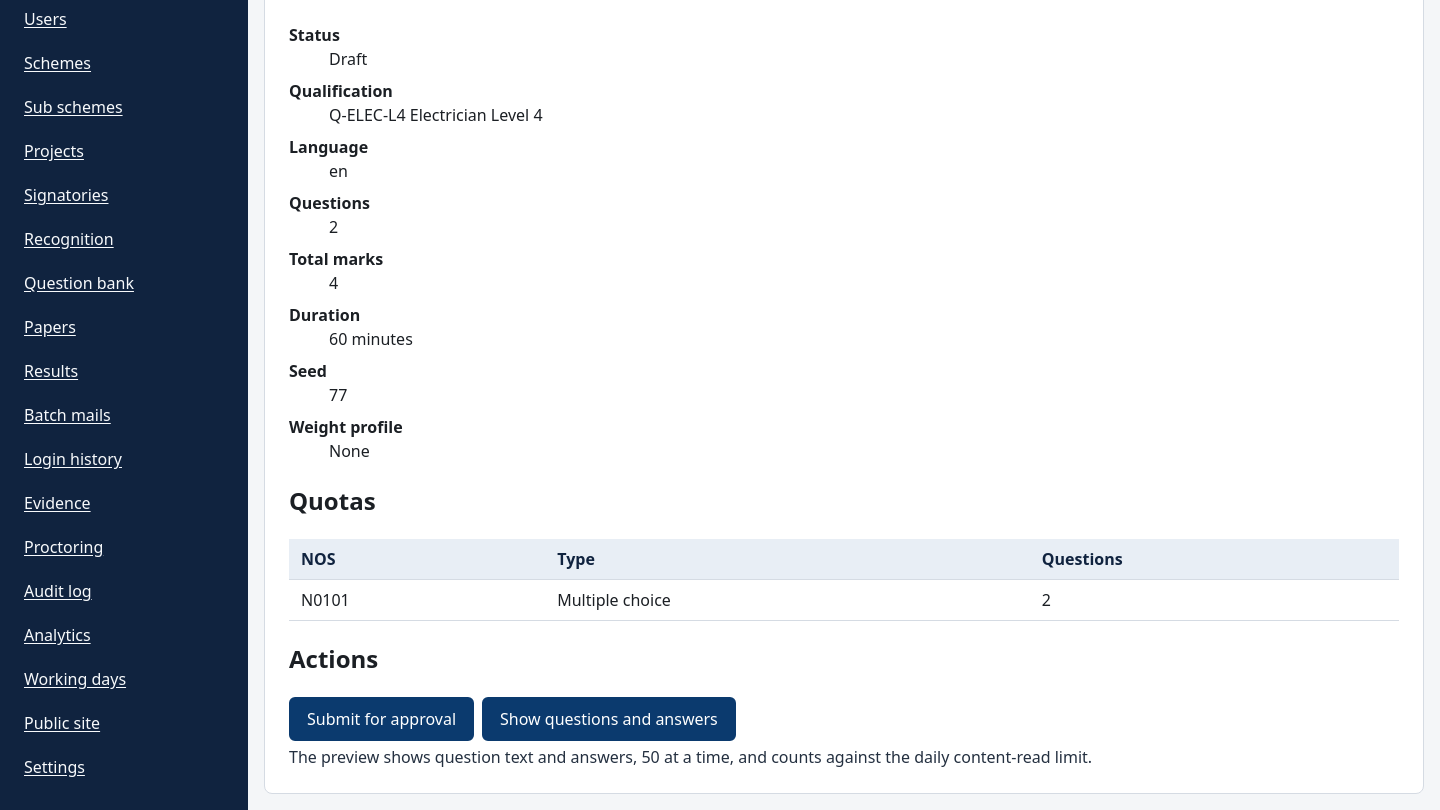
Scenario: shows why a submit was refused when a question went stale
(page scrolled)
Click the button "Submit for approval" at (382, 718), box [289,696,474,740]
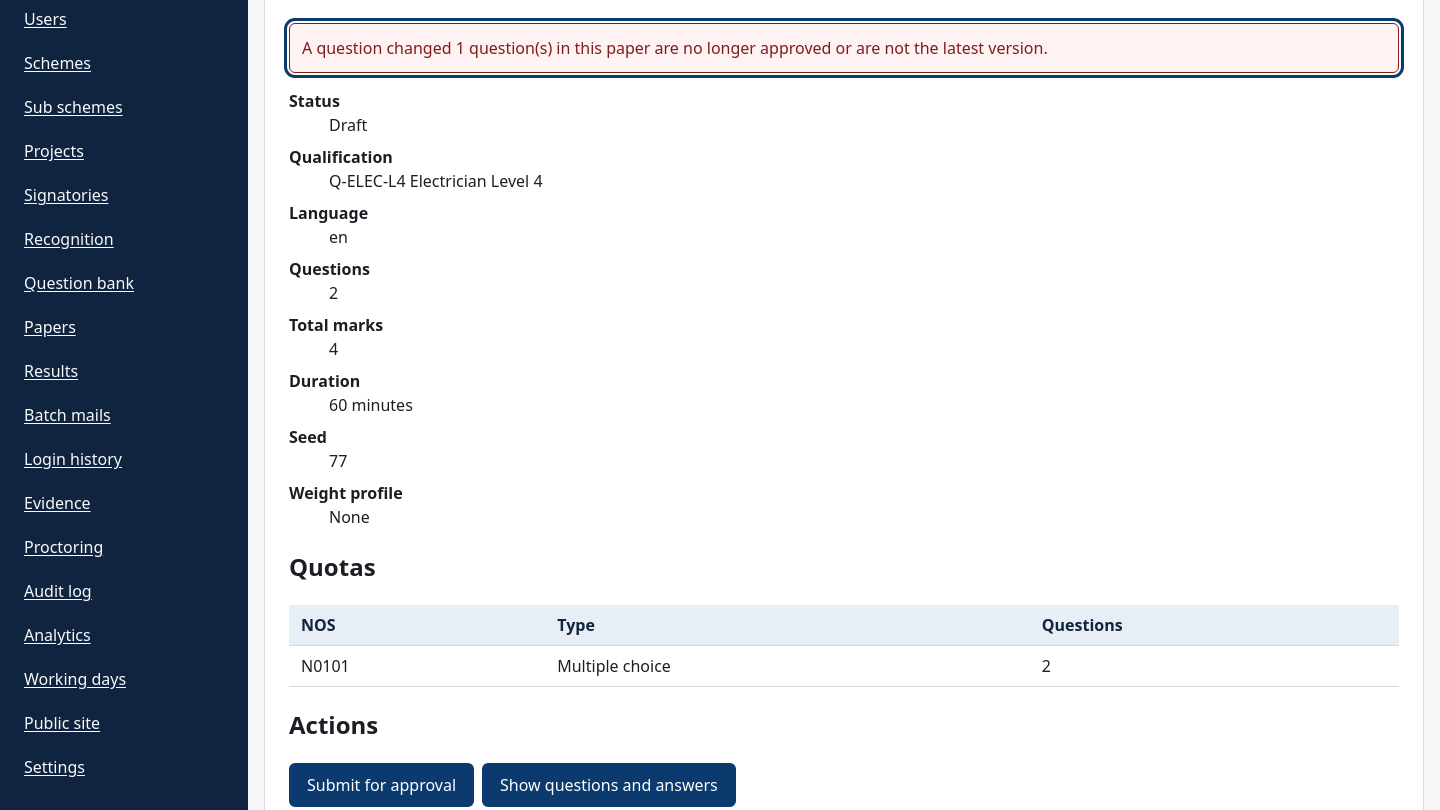
Result: the message shows "1 question(s) in this paper are no longer approved" at [302,37,1048,59]
